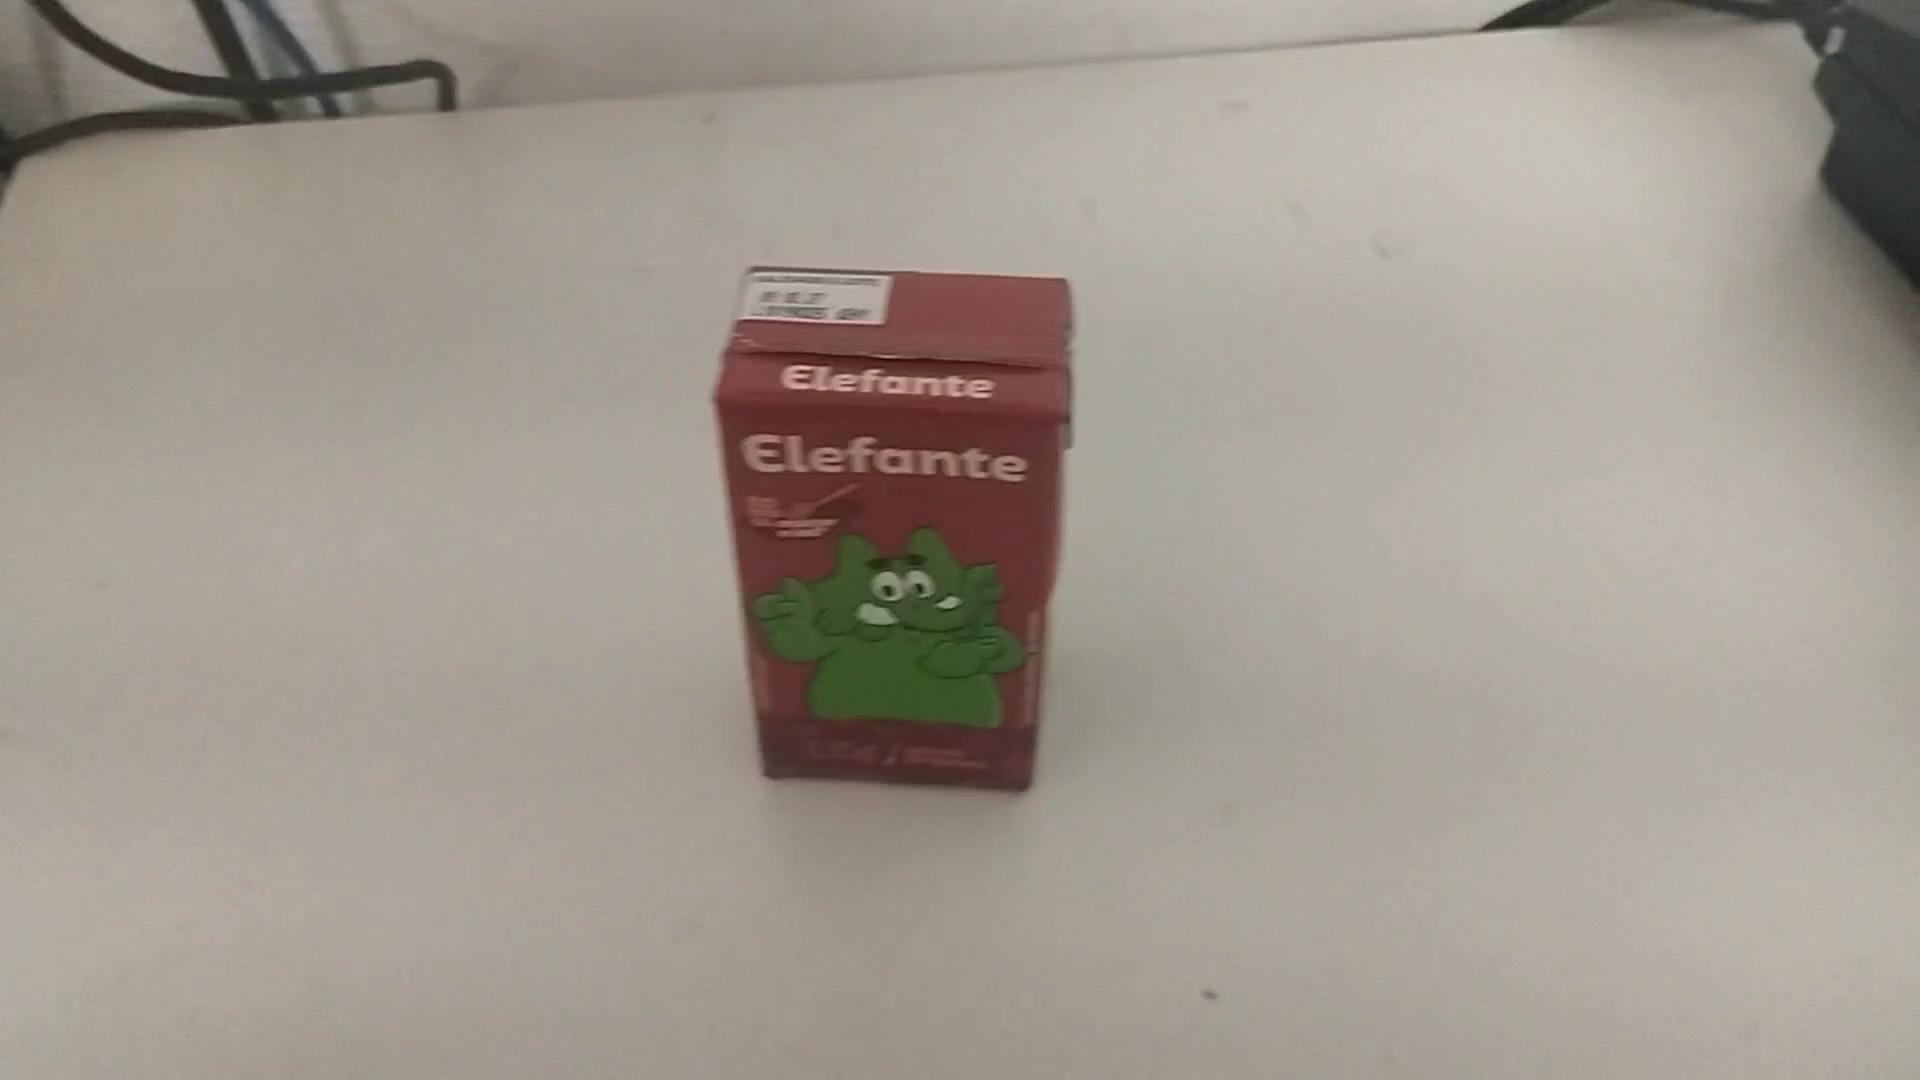tomate: (702, 251, 1104, 798)
